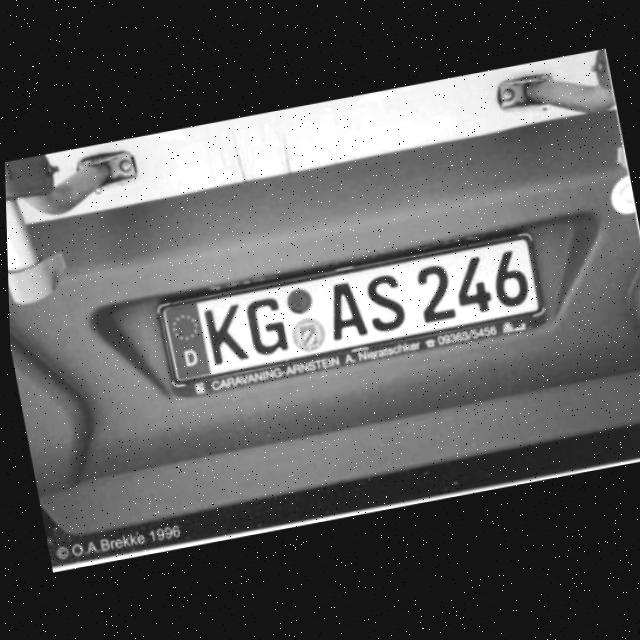license-plates: (161, 238, 541, 384)
